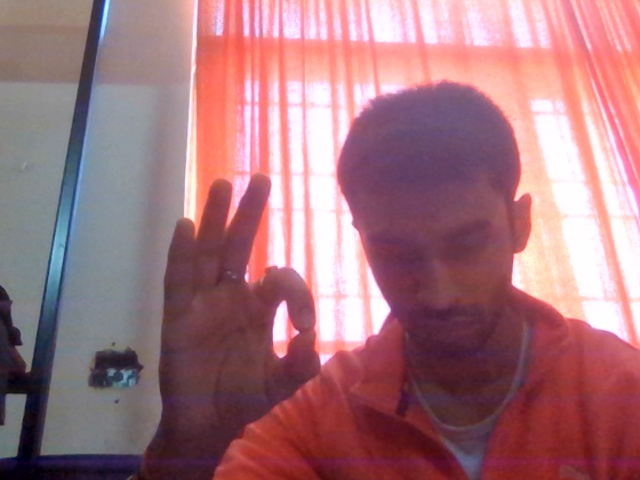F: (122, 130, 336, 480)
